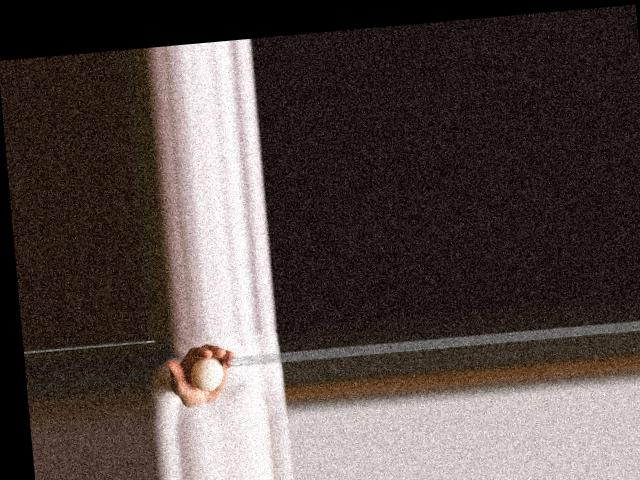egg: (189, 355, 225, 391)
